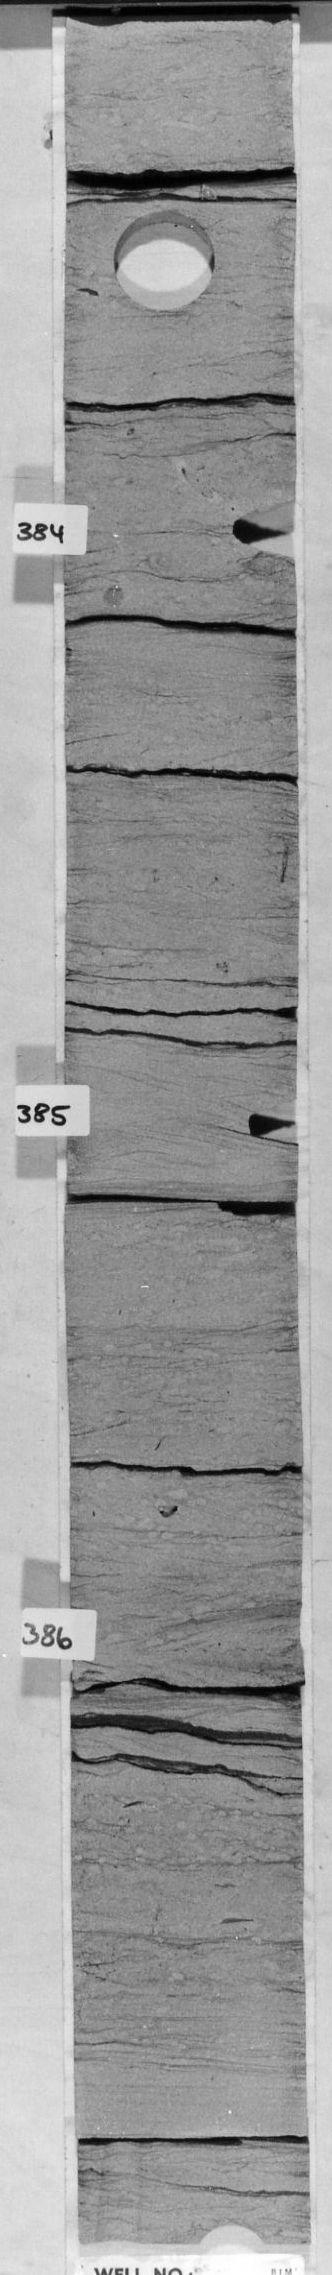hplug: (225, 492, 294, 567), (238, 1088, 299, 1153), (196, 2216, 267, 2247)
scal: (103, 205, 225, 316)
